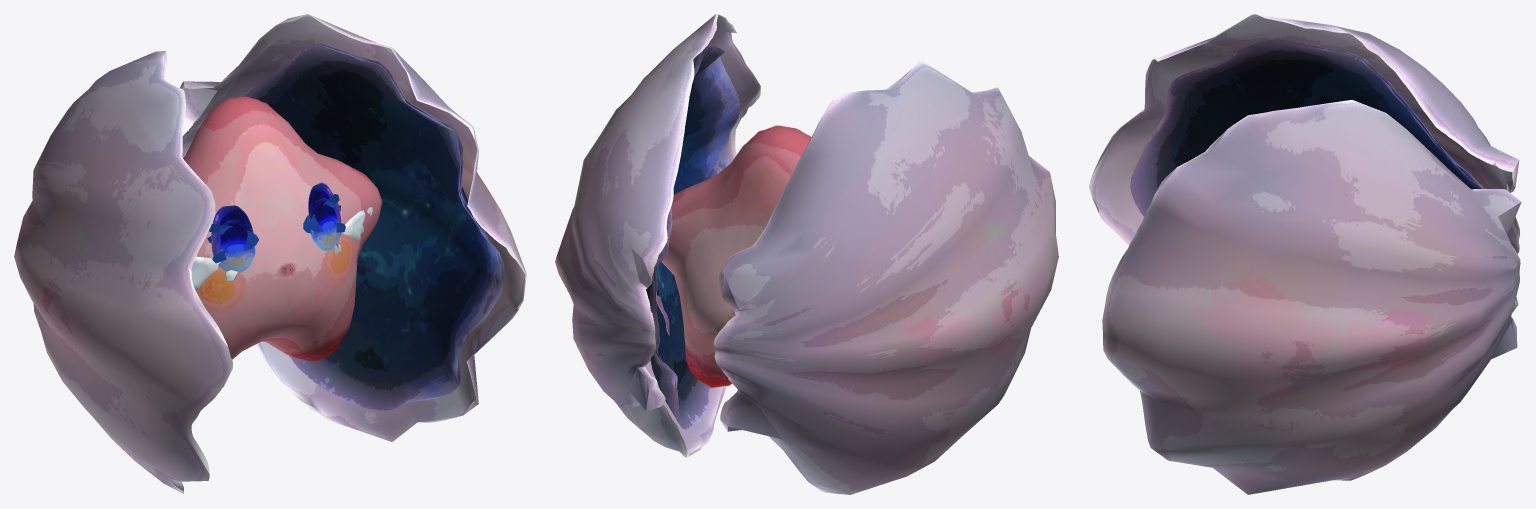
File: shelly.glb
3 renders of one model, left to right at view 1: azimuth 30°, elevation 25°; view 2: azimuth 150°, elevation 25°; view 3: azimuth 270°, elevation 25°, orthographic. The views are drawn at different scales.
Parts seen in each view (by area): view 1: M_Parmon_10191_Body01_LOD1_-700384265.obj, M_Parmon_10191_Body02_LOD1_-700384265.obj, M_Parmon_10191_Body_LOD1_-700384265.obj, M_Parmon_10191_Eye04_LOD1_-700384265.obj, M_Parmon_10191_Eye03_LOD1_-700384265.obj, M_Parmon_10191_Eye05_LOD1_-700384265.obj; view 2: M_Parmon_10191_Body01_LOD1_-700384265.obj, M_Parmon_10191_Body_LOD1_-700384265.obj, M_Parmon_10191_Body02_LOD1_-700384265.obj; view 3: M_Parmon_10191_Body01_LOD1_-700384265.obj, M_Parmon_10191_Body02_LOD1_-700384265.obj.
Part boxes in pixels (x1,y1,x2,y2): M_Parmon_10191_Body01_LOD1_-700384265.obj: (14,14,526,493); M_Parmon_10191_Body02_LOD1_-700384265.obj: (247,45,501,409); M_Parmon_10191_Body_LOD1_-700384265.obj: (183,96,382,361); M_Parmon_10191_Eye04_LOD1_-700384265.obj: (211,197,341,281); M_Parmon_10191_Eye03_LOD1_-700384265.obj: (191,194,372,290); M_Parmon_10191_Eye05_LOD1_-700384265.obj: (211,182,339,246); M_Parmon_10191_Body01_LOD1_-700384265.obj: (555,14,1058,494); M_Parmon_10191_Body_LOD1_-700384265.obj: (661,125,811,387); M_Parmon_10191_Body02_LOD1_-700384265.obj: (653,45,739,428); M_Parmon_10191_Body01_LOD1_-700384265.obj: (1089,14,1521,494); M_Parmon_10191_Body02_LOD1_-700384265.obj: (1131,41,1482,216).
Bounding box in the file's own units: 0.8871 × 0.8147 × 0.8266.
2 materials, 2 textured.
